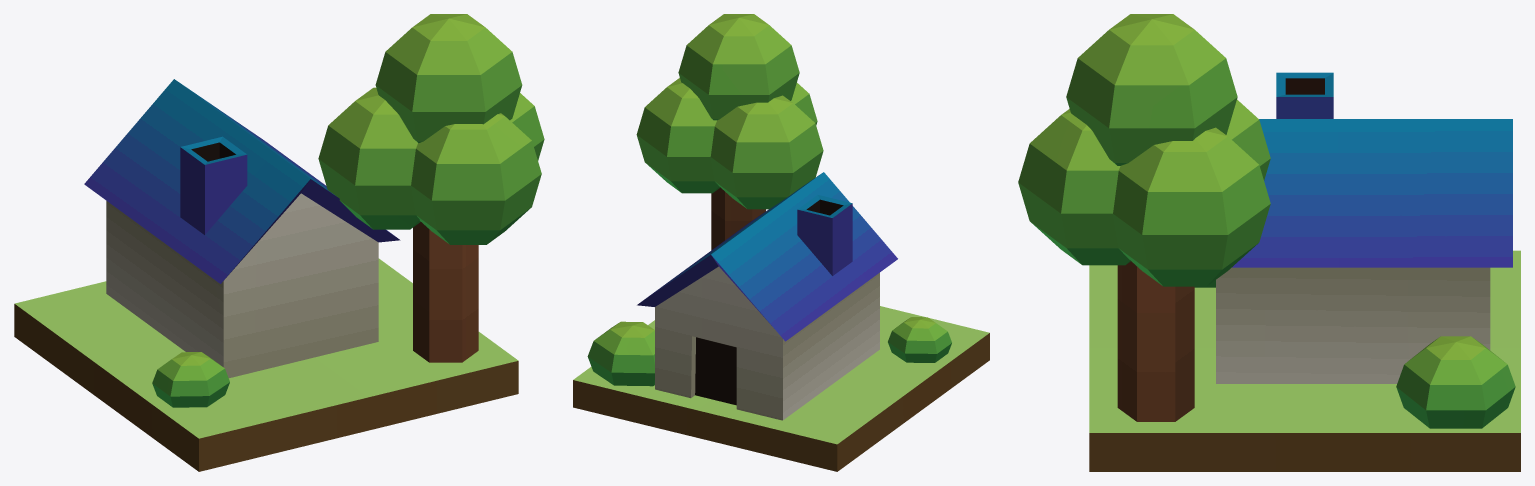
The model's file is maison chene 2.fbx.
3 renders of one model, left to right at view 1: azimuth 30°, elevation 25°; view 2: azimuth 150°, elevation 25°; view 3: azimuth 270°, elevation 25°, orthographic. The views are drawn at different scales.
Visible parts, largest first — view 1: buisson.008; view 2: buisson.008; view 3: buisson.008.
Boxes of the visible parts, bbox=[...] form: buisson.008: bbox=[14, 14, 544, 471]; buisson.008: bbox=[573, 14, 989, 471]; buisson.008: bbox=[1018, 14, 1520, 471].
Bounding box in the file's own units: 230 × 233 × 219.
